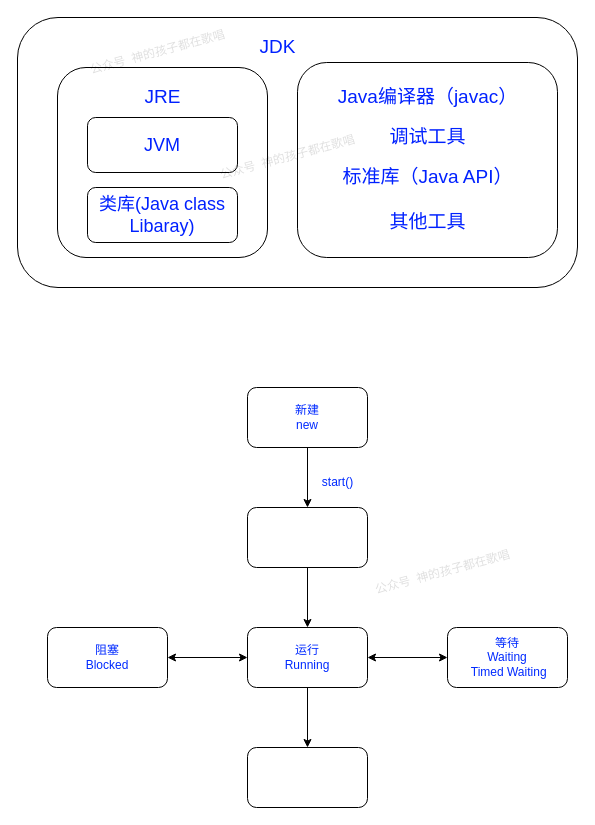
Image size: 595x825. Some labels were removed from this diagram. Here are the shapes that lost their labels. From the top down, the box of each, then its label:
(246, 506, 368, 568): 就绪 Runnable
(246, 746, 368, 808): 死亡状态 Terminated
